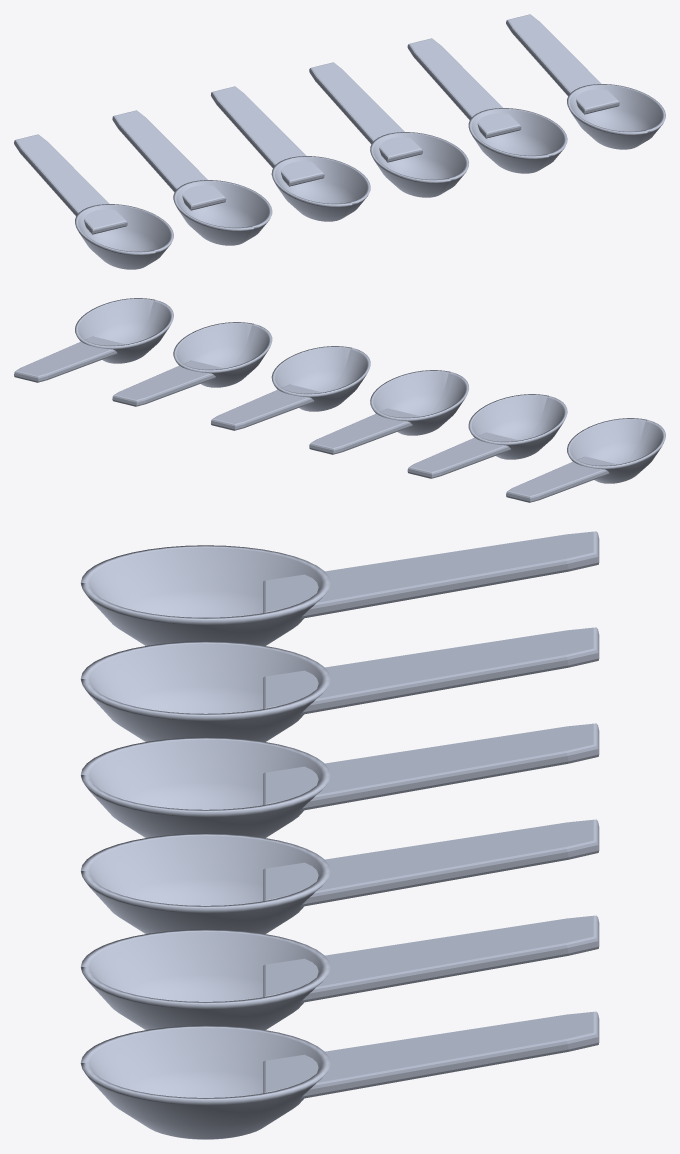
Rendered from ORI-65.glb.
3 views of the same model, one above another, from view 1: azimuth 30°, elevation 25°; view 2: azimuth 150°, elevation 25°; view 3: azimuth 270°, elevation 25° (orthographic). The views are drawn at different scales.
Bounding box in the file's own units: 0.3192 × 0.0269 × 0.126.
